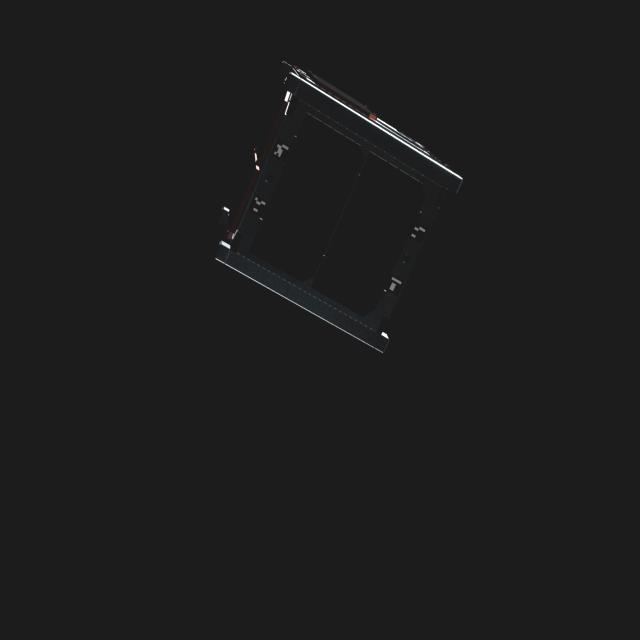medium_debris: (213, 63, 471, 354)
